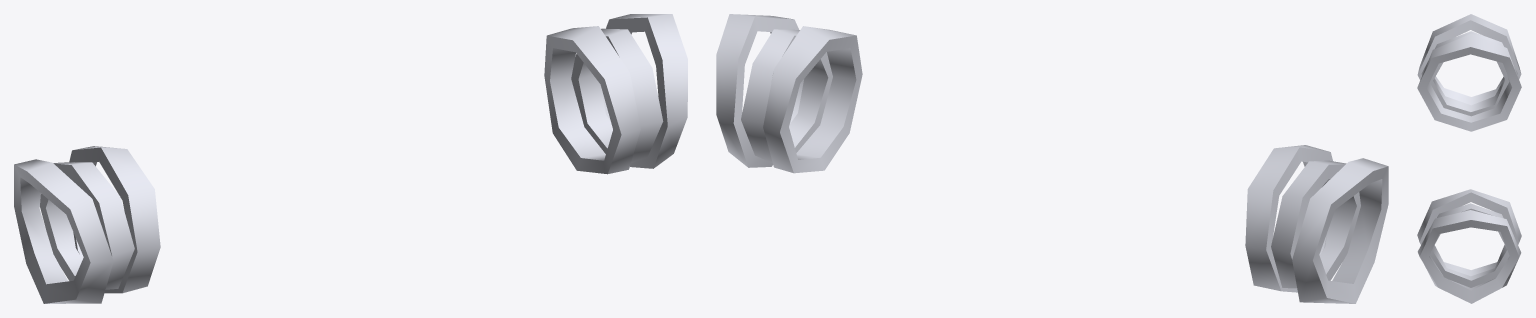
File: Hands_42.fbx
The picture shows the model from 3 angles, left to right: view 1: azimuth 30°, elevation 25°; view 2: azimuth 150°, elevation 25°; view 3: azimuth 270°, elevation 25°; orthographic projection. The views are drawn at different scales.
Visible parts, largest first — view 1: Hands_42; view 2: Hands_42; view 3: Hands_42.
Part boxes in pixels (left/top/right/bottom): Hands_42: left=14, top=14, right=687, bottom=303; Hands_42: left=716, top=14, right=1388, bottom=303; Hands_42: left=1417, top=14, right=1521, bottom=303.
Bounding box in the file's own units: 105 × 23.06 × 22.5.
